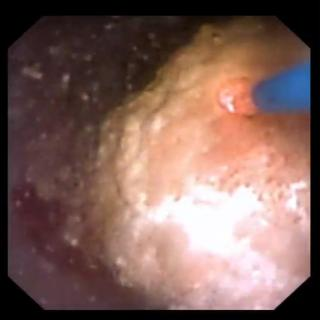fiber: (253, 63, 307, 111)
stone: (92, 19, 307, 306)
